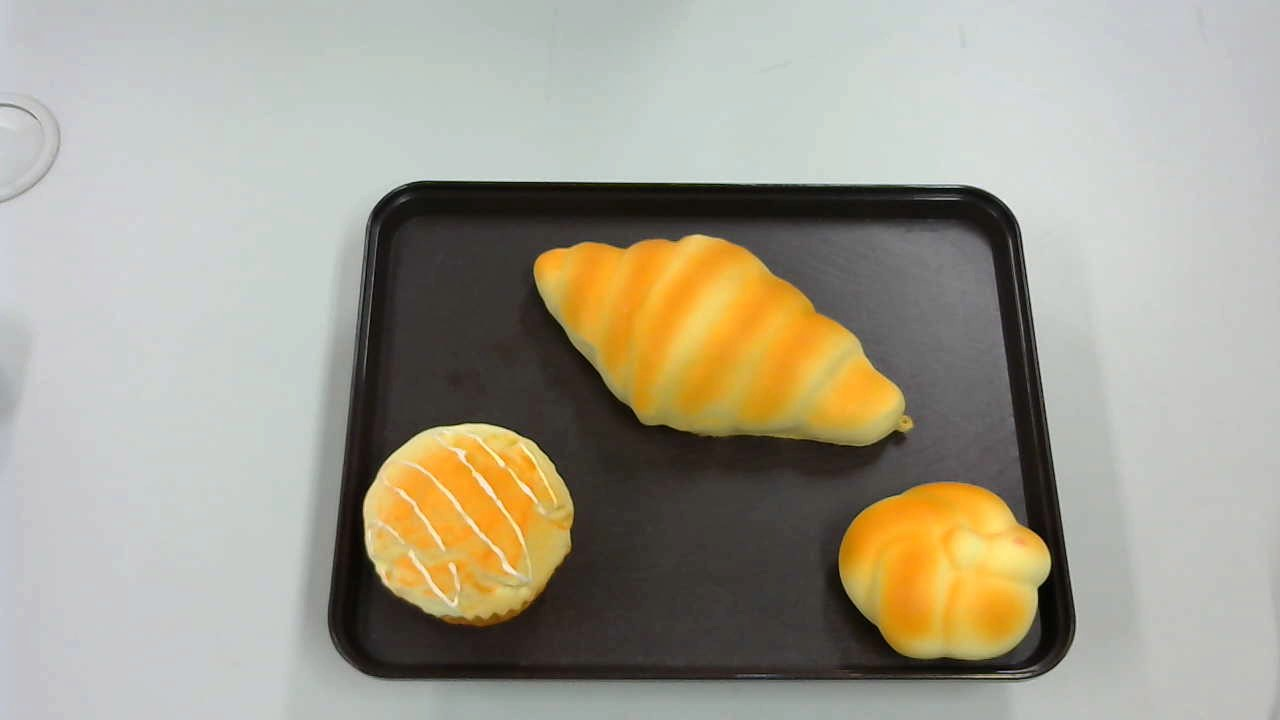croissant: (532, 234, 912, 448), (837, 482, 1052, 659)
cupcake: (361, 425, 575, 628)
